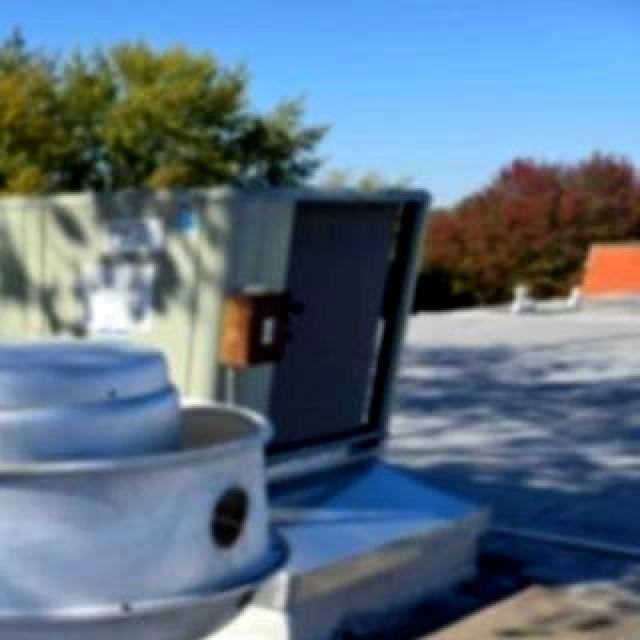GRAVITY-VENT: (0, 324, 296, 640)
RTU: (0, 184, 440, 484)
